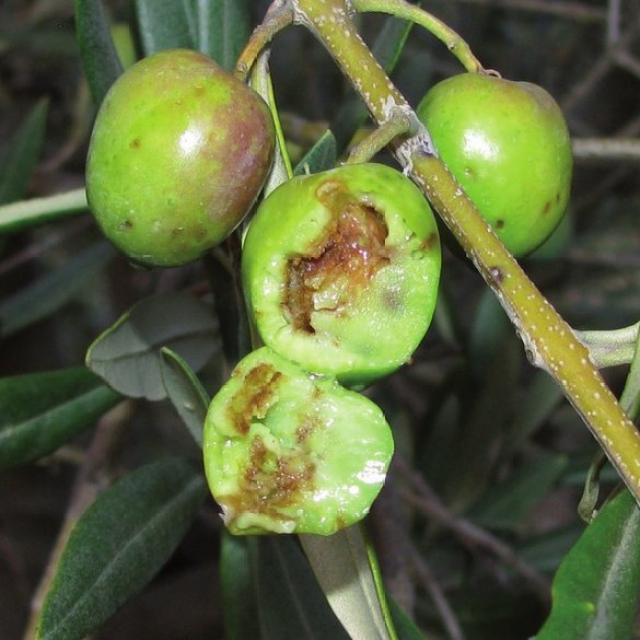Olive Fruit Fly: (203, 163, 440, 535), (88, 49, 274, 266), (417, 71, 572, 257)
